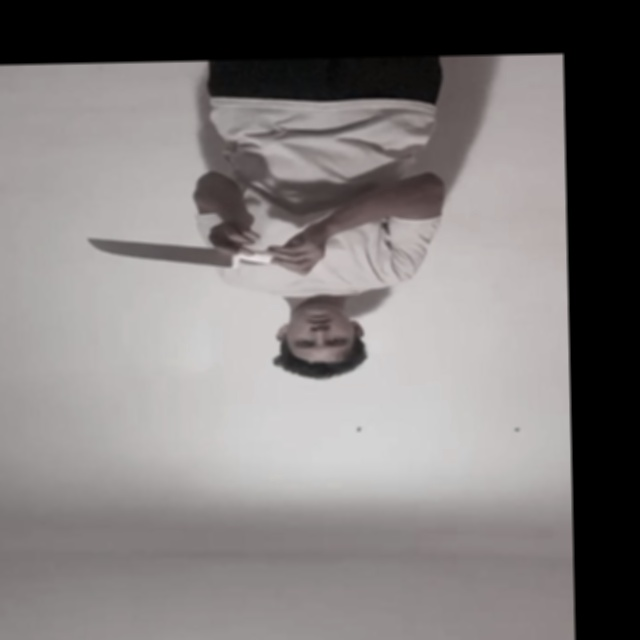Sharp-Object: (84, 233, 229, 274)
